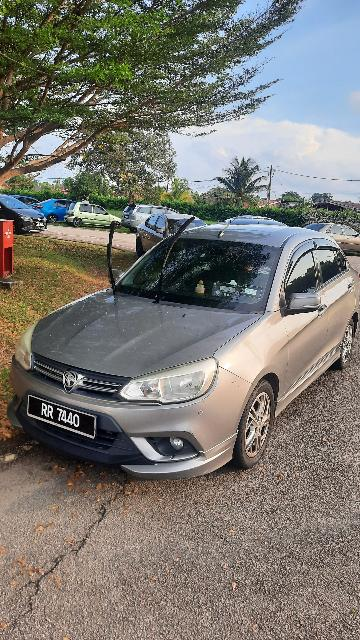License_Plate: (25, 389, 104, 443)
car: (13, 217, 360, 477)
